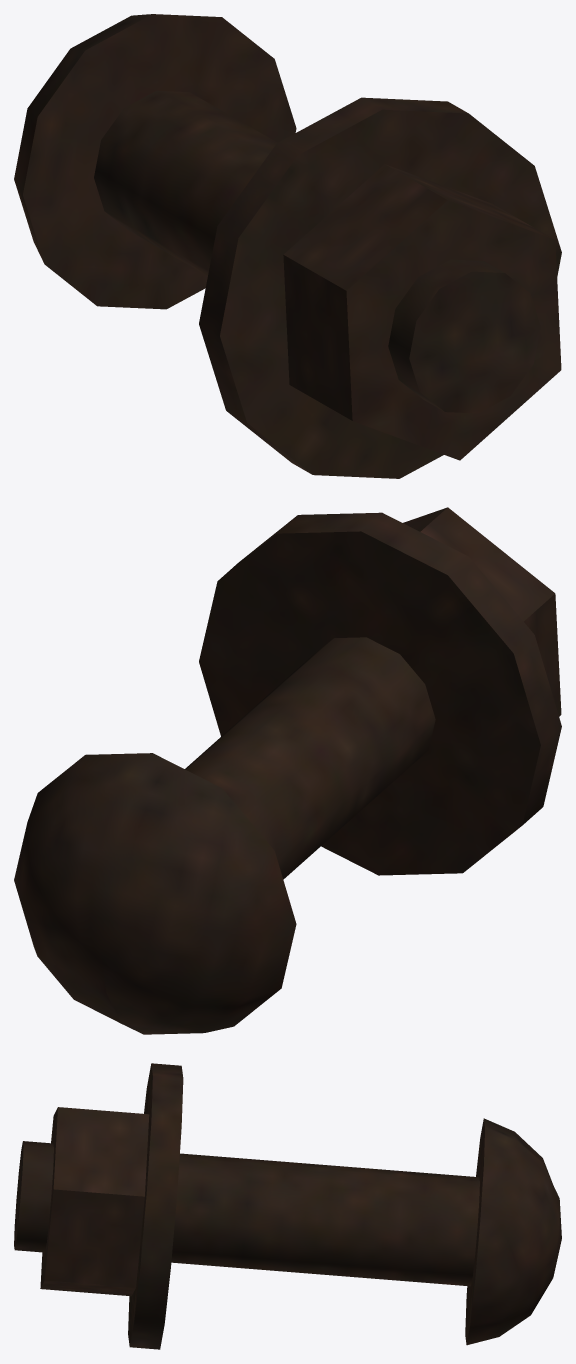
Rendered from bolt_mx_1.obj.
3 views of the same model, one above another, from view 1: azimuth 30°, elevation 25°; view 2: azimuth 150°, elevation 25°; view 3: azimuth 270°, elevation 25° (orthographic). The views are drawn at different scales.
Parts seen in each view (by area): view 1: bolt_mx_1; view 2: bolt_mx_1; view 3: bolt_mx_1.
Part boxes in pixels (x1,y1,x2,y2): bolt_mx_1: (14, 14, 561, 478); bolt_mx_1: (14, 507, 561, 1034); bolt_mx_1: (14, 1063, 561, 1349).
Bounding box in the file's own units: 0.0936 × 0.0941 × 0.1794.
